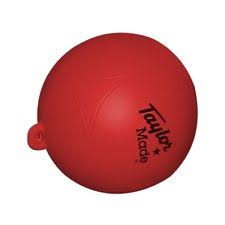buoy: (39, 34, 198, 194)
